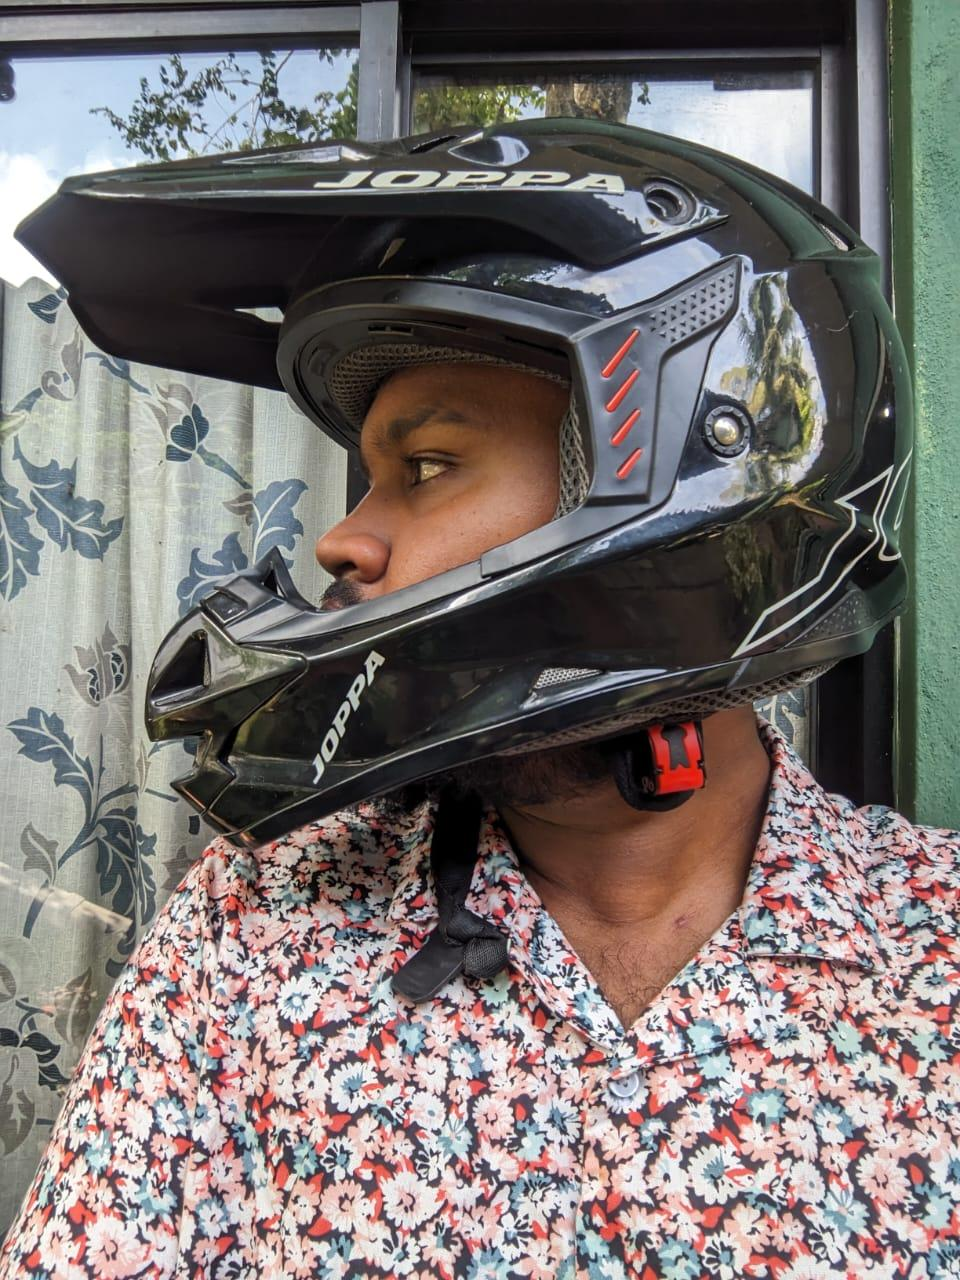helmet: (17, 119, 925, 847)
